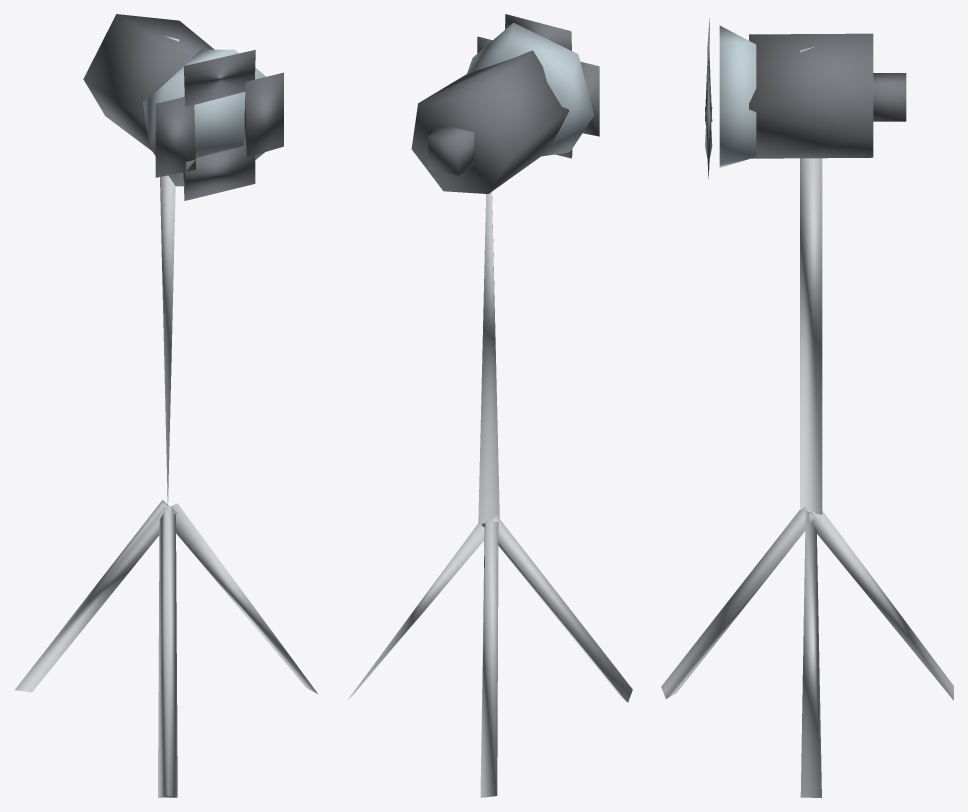
The model's file is Prop_Fresnel_LOD2.glb.
3 renders of one model, left to right at view 1: azimuth 30°, elevation 25°; view 2: azimuth 150°, elevation 25°; view 3: azimuth 270°, elevation 25°, orthographic. The views are drawn at different scales.
Parts seen in each view (by area): view 1: Prop_Fresnel_LOD2; view 2: Prop_Fresnel_LOD2; view 3: Prop_Fresnel_LOD2.
Boxes of the visible parts, x1,y1,x2,y2 form: Prop_Fresnel_LOD2: (15,14,317,797); Prop_Fresnel_LOD2: (348,14,632,797); Prop_Fresnel_LOD2: (661,18,953,797).
Size of the model in its own units: 0.7041 by 2.11 by 0.7995.
